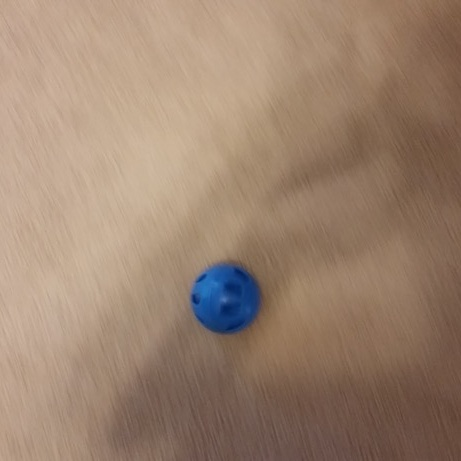blueball: (187, 255, 267, 340)
